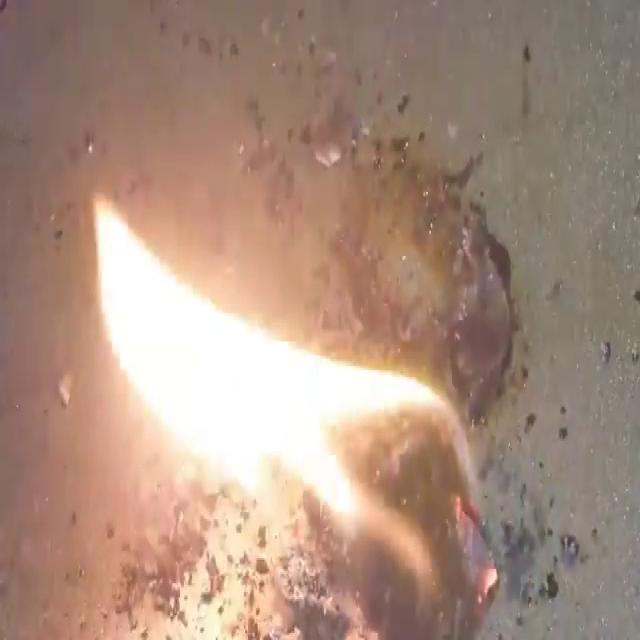Fire: (89, 187, 462, 526)
